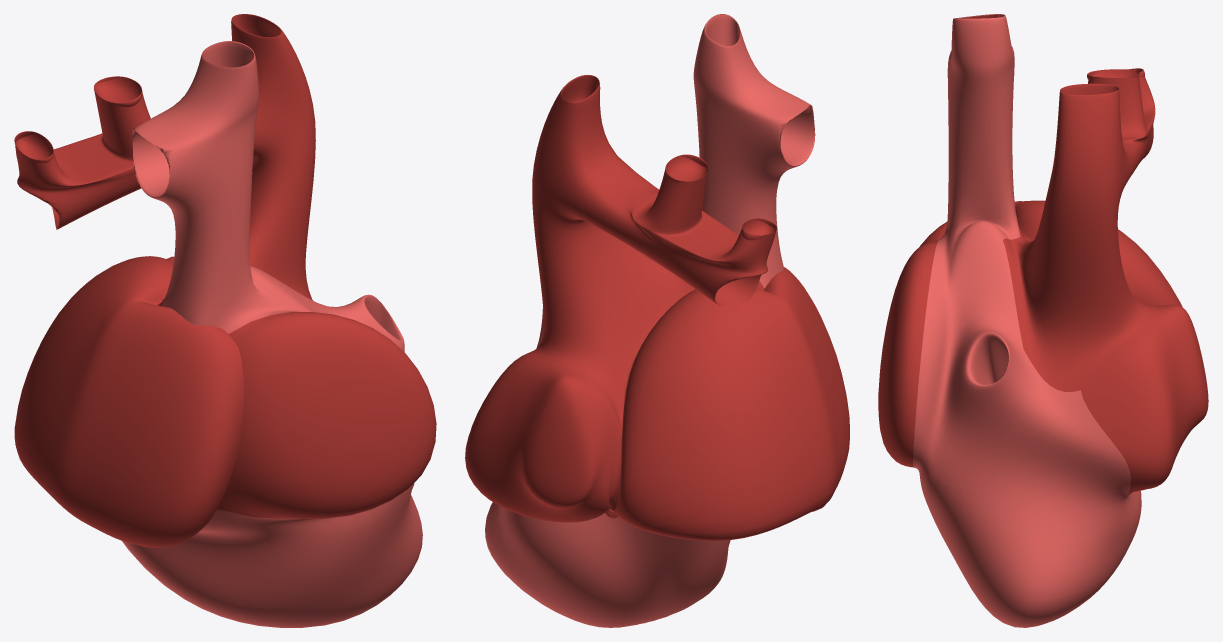
File: Heart.fbx
The picture shows the model from 3 angles, left to right: view 1: azimuth 30°, elevation 25°; view 2: azimuth 150°, elevation 25°; view 3: azimuth 270°, elevation 25°; orthographic projection. The views are drawn at different scales.
Visible parts, largest first — view 1: pCube1; view 2: pCube1; view 3: pCube1.
Boxes of the visible parts, x1=… form: pCube1: x1=14, y1=14, x2=436, y2=627; pCube1: x1=465, y1=14, x2=849, y2=627; pCube1: x1=878, y1=14, x2=1208, y2=627.
Size of the model in its own units: 1.15 by 1.89 by 1.02.
